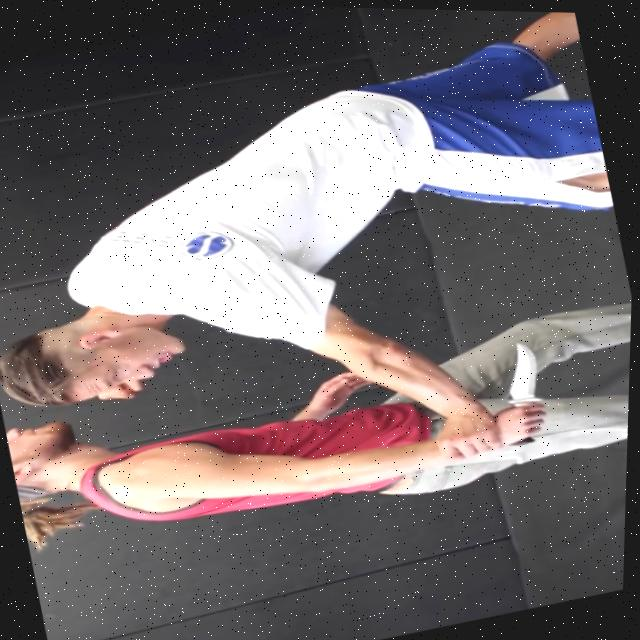knife: (487, 334, 551, 410)
